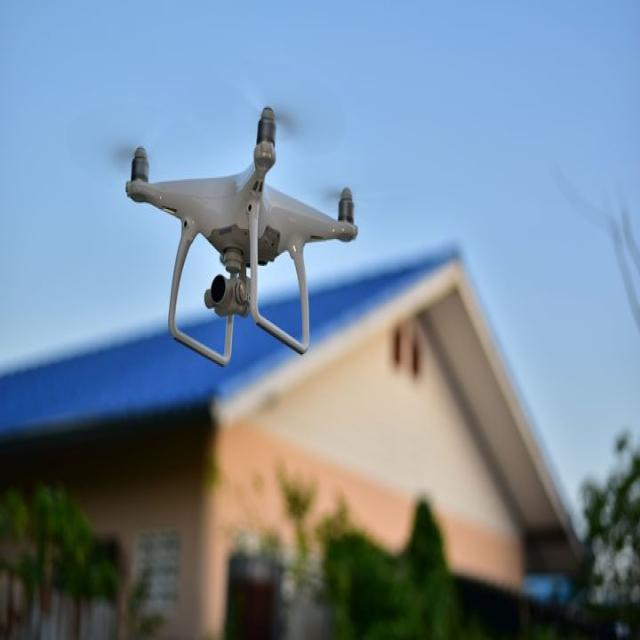drone: (106, 93, 368, 362)
